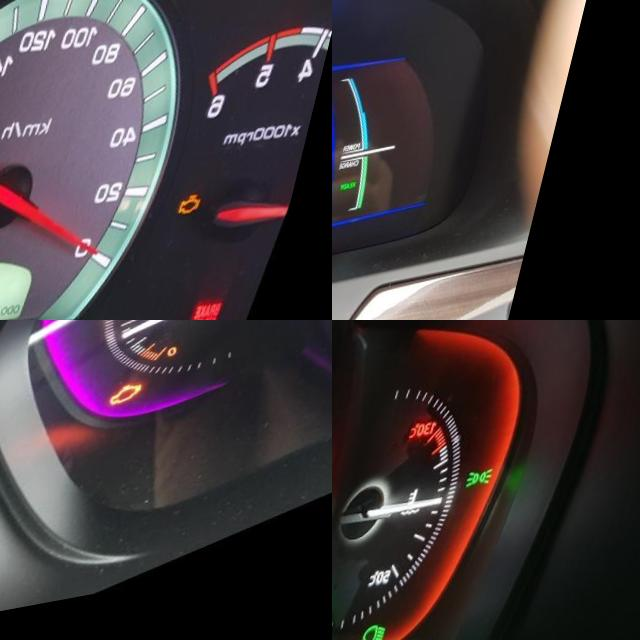FrontFogLight: (332, 603, 356, 636)
Low beam: (384, 631, 415, 640)
SideLamp: (483, 479, 513, 503), (279, 0, 307, 16)
